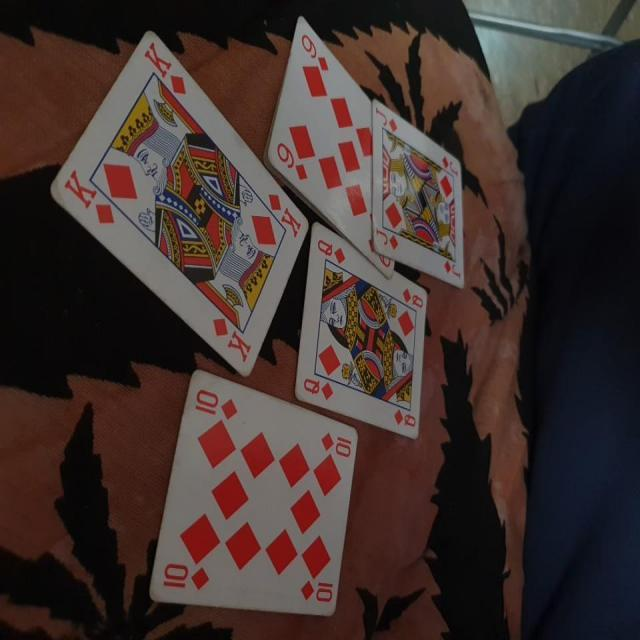10 of diamonds: (147, 366, 363, 616)
9 of diamonds: (265, 12, 397, 276)
jack of diamonds: (370, 97, 468, 291)
king of diamonds: (46, 28, 312, 380)
queen of diamonds: (292, 220, 428, 442)
